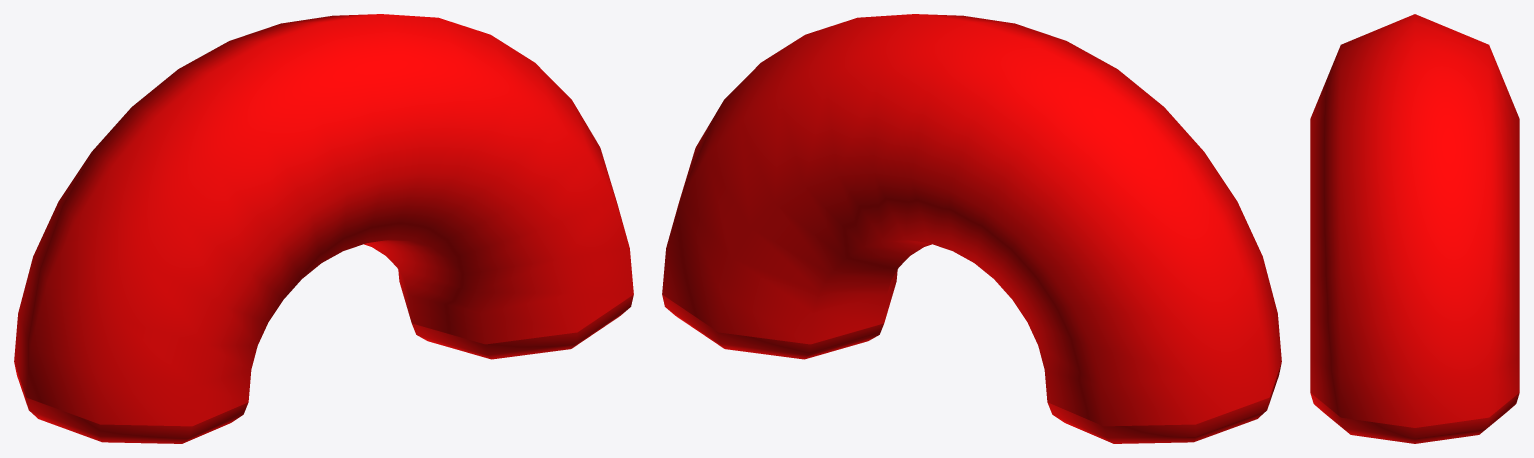
File: Legs5.glb
3 renders of one model, left to right at view 1: azimuth 30°, elevation 25°; view 2: azimuth 150°, elevation 25°; view 3: azimuth 270°, elevation 25°, orthographic. The views are drawn at different scales.
Visible parts, largest first — view 1: Legs5; view 2: Legs5; view 3: Legs5.
Part boxes in pixels (x1,y1,x2,y2): Legs5: [14, 14, 633, 443]; Legs5: [662, 14, 1281, 443]; Legs5: [1310, 14, 1519, 443].
Size of the model in its own units: 226 by 126 by 80.
